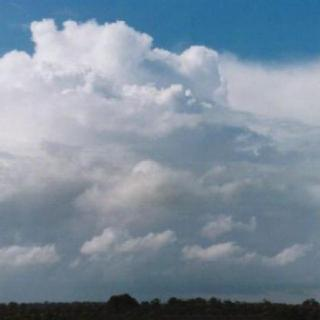Stratus: (0, 5, 320, 297)
